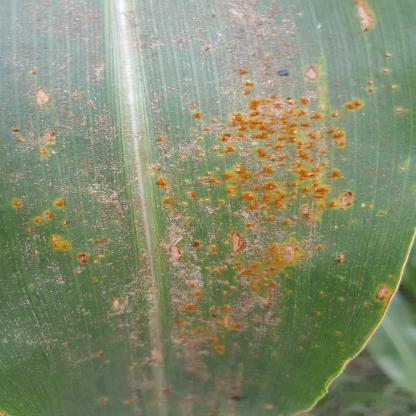Corn rust leaf: (2, 2, 413, 416)
